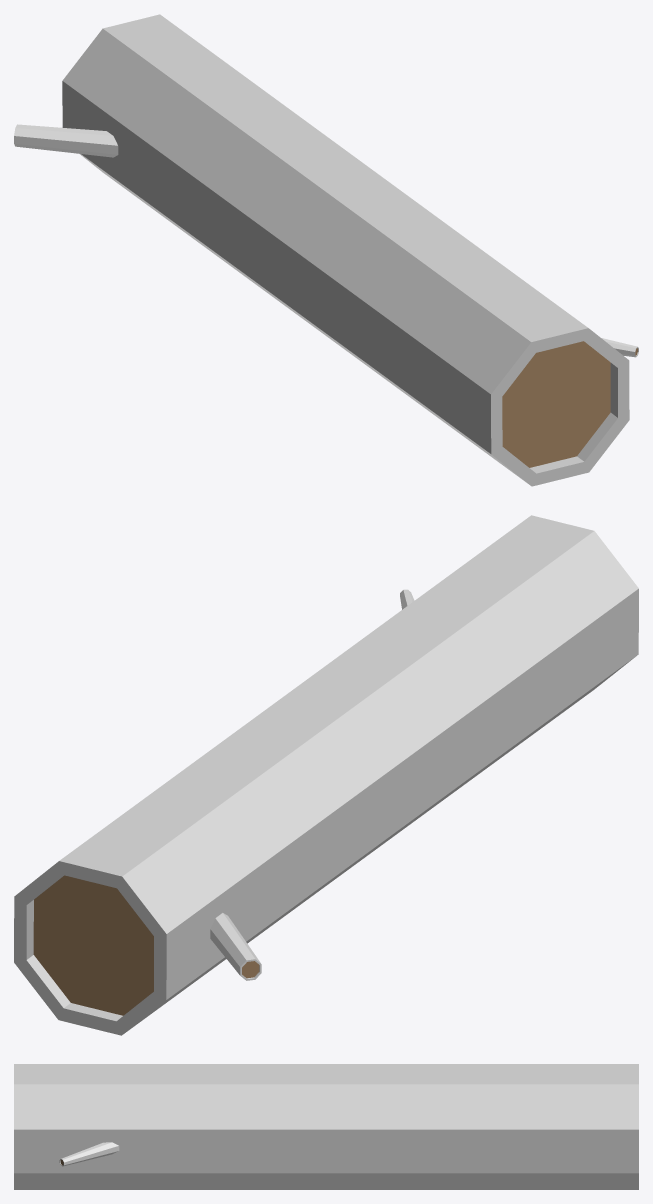
The model's file is Correct_Stick.fbx.
3 views of the same model, one above another, from view 1: azimuth 30°, elevation 25°; view 2: azimuth 150°, elevation 25°; view 3: azimuth 270°, elevation 25° (orthographic). The views are drawn at different scales.
Parts seen in each view (by area): view 1: Cylinder; view 2: Cylinder; view 3: Cylinder.
Part boxes in pixels (x1,y1,x2,y2): Cylinder: (14, 14, 638, 486); Cylinder: (14, 515, 638, 1035); Cylinder: (14, 1064, 638, 1189).
Size of the model in its own units: 334 by 185 by 994.
